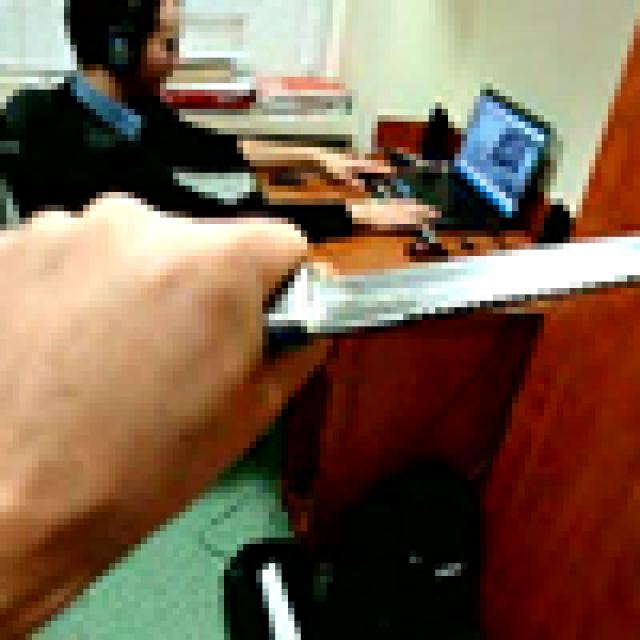Weapons: (262, 232, 634, 340)
